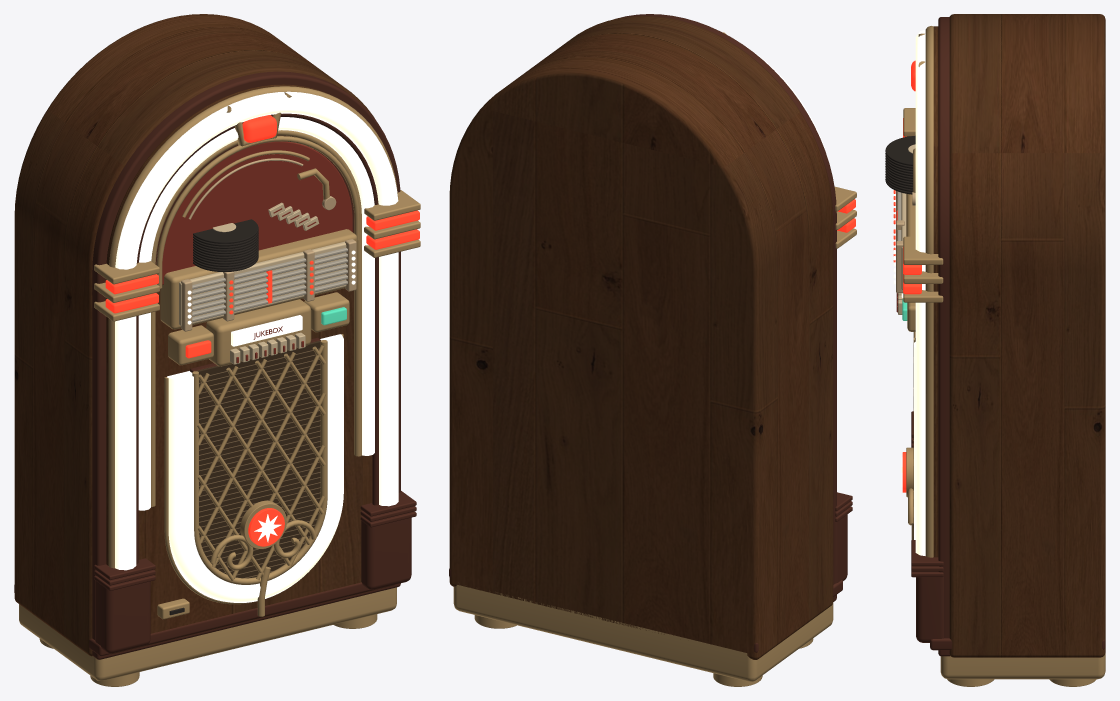
Rendered from jukebox.glb.
3 renders of one model, left to right at view 1: azimuth 30°, elevation 25°; view 2: azimuth 150°, elevation 25°; view 3: azimuth 270°, elevation 25°, orthographic.
Visible parts, largest first — view 1: Jukebox | Walnut veneer, Jukebox | Aged brass, Jukebox | Warm ivory tubes, Jukebox | Dark lacquer, Jukebox | Dark woven speaker, Jukebox | Burgundy interior, Jukebox | Speaker weave, Jukebox | Crimson lamps, Jukebox | Nickel ribs, Jukebox | Track cards, Jukebox | Black vinyl, Jukebox | Champagne trim; view 2: Jukebox | Walnut veneer, Jukebox | Aged brass, Jukebox | Dark lacquer; view 3: Jukebox | Walnut veneer, Jukebox | Aged brass, Jukebox | Dark lacquer, Jukebox | Warm ivory tubes, Jukebox | Black vinyl, Jukebox | Crimson lamps, Jukebox | Champagne trim, Jukebox | Track cards.
Part boxes in pixels (x1,y1,x2,y2): Jukebox | Walnut veneer: (14, 14, 394, 656); Jukebox | Aged brass: (19, 86, 420, 686); Jukebox | Warm ivory tubes: (115, 91, 398, 602); Jukebox | Dark lacquer: (14, 71, 416, 659); Jukebox | Dark woven speaker: (195, 340, 320, 578); Jukebox | Burgundy interior: (162, 141, 352, 363); Jukebox | Speaker weave: (199, 348, 320, 578); Jukebox | Crimson lamps: (105, 115, 419, 546); Jukebox | Nickel ribs: (192, 248, 347, 321); Jukebox | Track cards: (179, 202, 346, 364); Jukebox | Black vinyl: (169, 219, 258, 615); Jukebox | Champagne trim: (181, 158, 356, 331); Jukebox | Walnut veneer: (449, 16, 833, 659); Jukebox | Aged brass: (453, 32, 856, 686); Jukebox | Dark lacquer: (449, 14, 852, 652); Jukebox | Walnut veneer: (933, 14, 1105, 657); Jukebox | Aged brass: (903, 26, 1105, 686); Jukebox | Dark lacquer: (911, 17, 1105, 656); Jukebox | Warm ivory tubes: (893, 29, 925, 555); Jukebox | Black vinyl: (885, 135, 915, 194); Jukebox | Crimson lamps: (893, 60, 921, 492); Jukebox | Champagne trim: (896, 191, 915, 293); Jukebox | Track cards: (898, 144, 915, 314).
Bounding box in the file's own units: 1.13 × 2.04 × 0.691.
13 materials, 1 textured.
